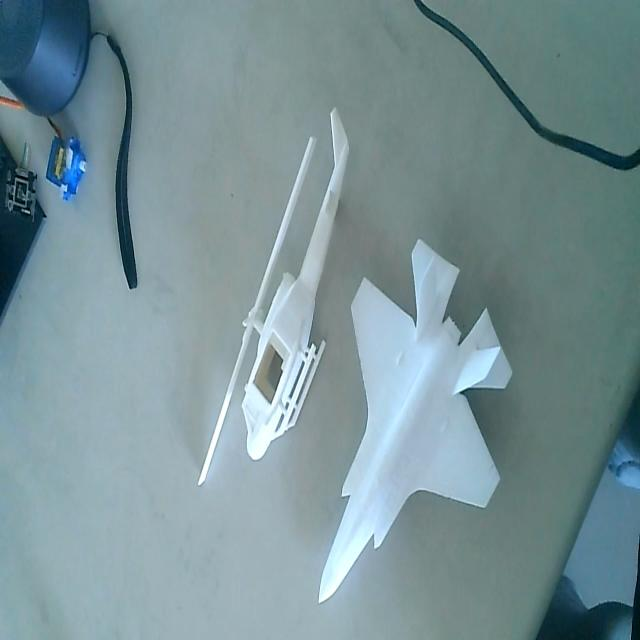Helicopter: (195, 106, 353, 488)
Jet: (317, 235, 517, 611)
